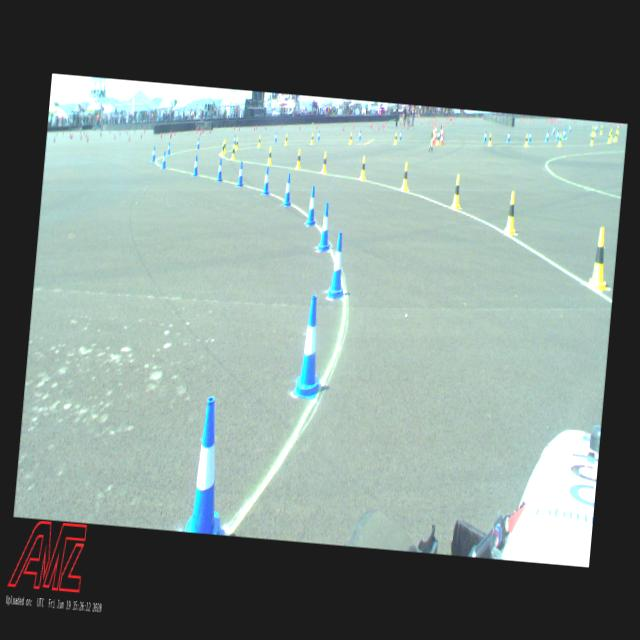blue_cone: (184, 396, 237, 535), (292, 294, 328, 398), (328, 231, 348, 299), (318, 202, 332, 252), (304, 184, 319, 227), (283, 172, 293, 205), (262, 167, 270, 196), (192, 154, 200, 176), (237, 161, 244, 186), (216, 158, 223, 181), (151, 146, 156, 161), (162, 152, 166, 168), (482, 130, 487, 142), (167, 142, 171, 154), (506, 131, 510, 142), (545, 130, 549, 141), (316, 130, 320, 140), (398, 130, 402, 140), (197, 137, 200, 148), (556, 130, 559, 140), (358, 130, 361, 140), (274, 132, 277, 142), (562, 128, 565, 138), (528, 131, 531, 141), (233, 134, 236, 144), (436, 130, 439, 140), (552, 125, 554, 135), (568, 124, 570, 132)
large_orange_cone: (439, 126, 444, 144), (433, 124, 438, 142), (440, 124, 445, 142), (432, 125, 436, 145)
yellow_cone: (588, 226, 613, 290), (504, 191, 518, 234), (451, 174, 462, 210), (401, 162, 410, 190), (359, 155, 367, 179), (321, 152, 328, 174), (295, 149, 302, 168), (266, 146, 273, 164), (231, 145, 236, 159), (221, 141, 225, 156), (234, 136, 238, 150), (488, 132, 492, 145), (558, 133, 562, 146), (524, 134, 528, 146), (310, 132, 314, 144), (393, 132, 397, 144), (257, 135, 261, 147), (348, 132, 352, 144), (436, 132, 440, 144), (284, 134, 288, 144), (590, 134, 594, 144), (590, 126, 594, 134), (224, 139, 226, 153), (608, 132, 610, 142), (610, 128, 612, 138), (614, 131, 616, 140), (600, 126, 602, 134), (617, 125, 619, 133), (593, 126, 595, 134)
